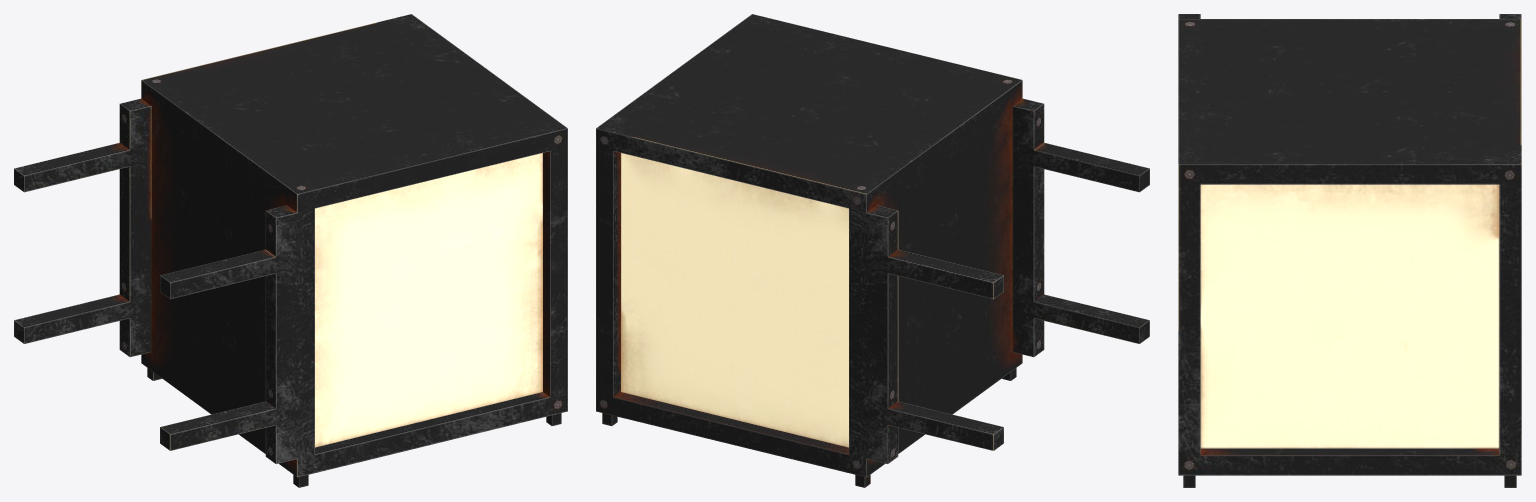
Rendered from Lamp.glb.
3 renders of one model, left to right at view 1: azimuth 30°, elevation 25°; view 2: azimuth 150°, elevation 25°; view 3: azimuth 270°, elevation 25°, orthographic. The views are drawn at different scales.
Visible parts, largest first — view 1: square; view 2: square; view 3: square.
Boxes of the visible parts, x1=… form: square: x1=14, y1=14, x2=567, y2=487; square: x1=596, y1=14, x2=1149, y2=487; square: x1=1178, y1=14, x2=1521, y2=487.
Size of the model in its own units: 0.5392 by 0.3839 by 0.3669.
1 material, 1 textured.
